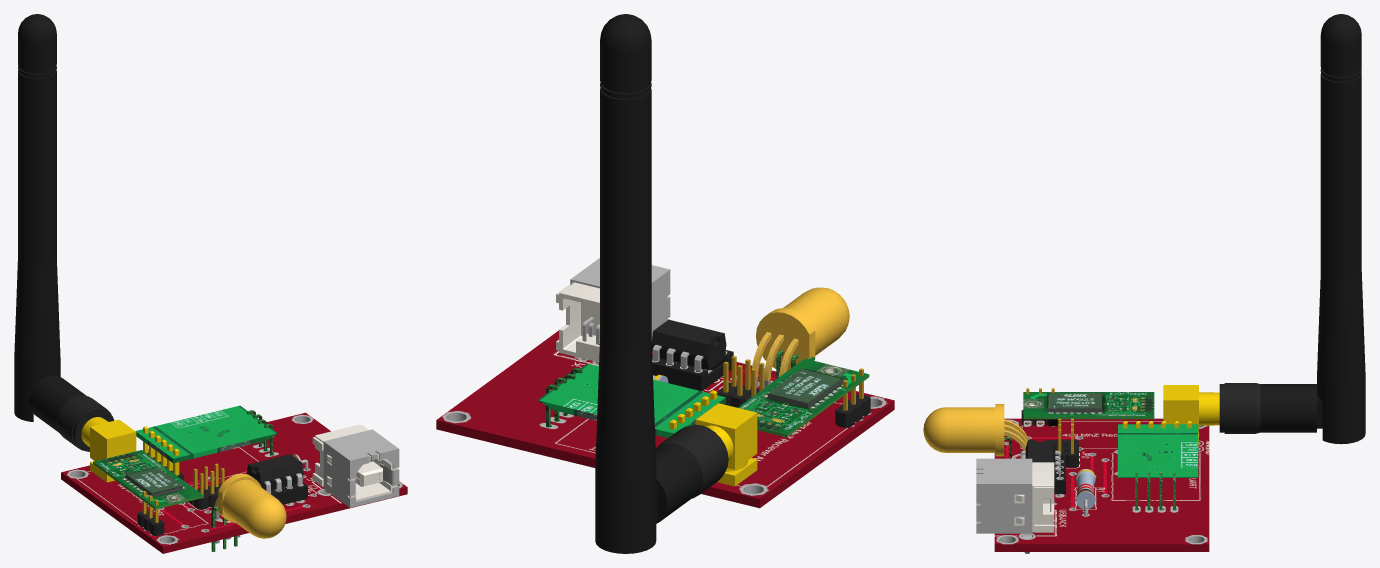
The model's file is Chip Decoder.dae.
3 views of the same model, side by side, from view 1: azimuth 30°, elevation 25°; view 2: azimuth 150°, elevation 25°; view 3: azimuth 270°, elevation 25° (orthographic). The views are drawn at different scales.
Parts seen in each view (by area): view 1: SketchUp (×3), group_10 (×2), USB_Connector_Cage, group_9 (×3), Lense (×2), RF_MODULE (×2), USB_Connector_Core (×3), group_7, DIL08_1, ICsocket; view 2: group_10 (×2), SketchUp (×3), group_9 (×2), Lense (×2), RF_MODULE (×2), USB_Connector_Core, DIL08_1, group_7, USB_Connector_Cage, ICsocket; view 3: SketchUp (×3), group_10 (×2), group_9 (×2), USB_Connector_Cage, Lense, RF_MODULE (×2), group_7 (×2), USB_Connector_Core, instance_2, DIL08_1.
Boxes of the visible parts, x1,y1,x2,y2 form: SketchUp (×3): (61, 405, 407, 553); group_10 (×2): (14, 14, 60, 421); USB_Connector_Cage: (323, 429, 399, 507); group_9 (×3): (29, 375, 114, 451); Lense (×2): (218, 473, 286, 538); RF_MODULE (×2): (93, 450, 203, 507); USB_Connector_Core (×3): (312, 424, 396, 501); group_7: (90, 419, 136, 461); DIL08_1: (247, 454, 303, 490); ICsocket: (271, 483, 307, 504); group_10 (×2): (595, 14, 656, 553); SketchUp (×3): (436, 330, 894, 508); group_9 (×2): (655, 425, 726, 523); Lense (×2): (756, 287, 849, 371); RF_MODULE (×2): (738, 358, 868, 434); USB_Connector_Core: (556, 282, 599, 362); DIL08_1: (651, 319, 726, 369); group_7: (696, 403, 757, 469); USB_Connector_Cage: (570, 258, 670, 340); ICsocket: (652, 350, 733, 391); SketchUp (×3): (994, 418, 1209, 551); group_10 (×2): (1317, 14, 1365, 444); group_9 (×2): (1224, 383, 1316, 433); USB_Connector_Cage: (976, 458, 1032, 553); Lense: (923, 407, 995, 452); RF_MODULE (×2): (1023, 392, 1154, 416); group_7 (×2): (1163, 385, 1214, 432); USB_Connector_Core: (978, 462, 1054, 532); instance_2: (1076, 468, 1095, 515); DIL08_1: (1025, 440, 1055, 475).
Bounding box in the file's own units: 2.29 × 3.4 × 3.8.
27 materials, 4 textured.
